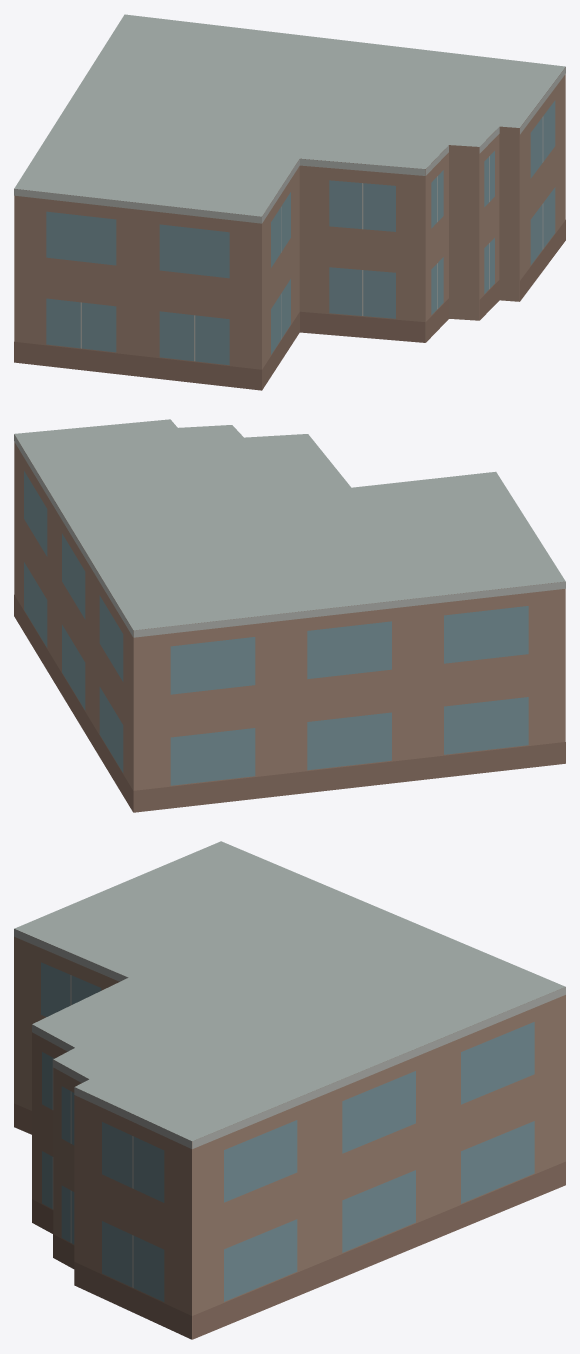
Rendered from survey-upis-33023016.glb.
3 renders of one model, top to bottom at view 1: azimuth 30°, elevation 25°; view 2: azimuth 150°, elevation 25°; view 3: azimuth 270°, elevation 25°, orthographic. The views are drawn at different scales.
Visible parts, largest first — view 1: survey-upis-33023016.tmp; view 2: survey-upis-33023016.tmp; view 3: survey-upis-33023016.tmp.
Part boxes in pixels (x1,y1,x2,y2): survey-upis-33023016.tmp: (14,14,565,390); survey-upis-33023016.tmp: (14,419,565,812); survey-upis-33023016.tmp: (14,841,565,1339).
Size of the model in its own units: 19.8 by 6.1 by 15.38.
